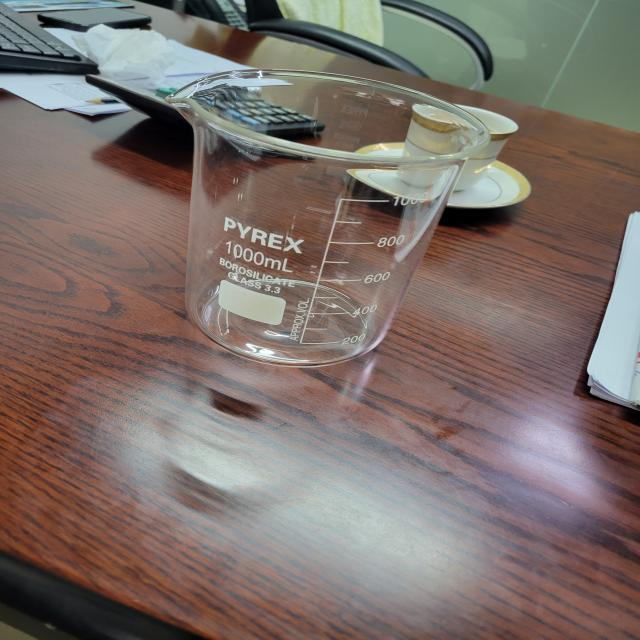Beaker: (140, 45, 487, 419)
